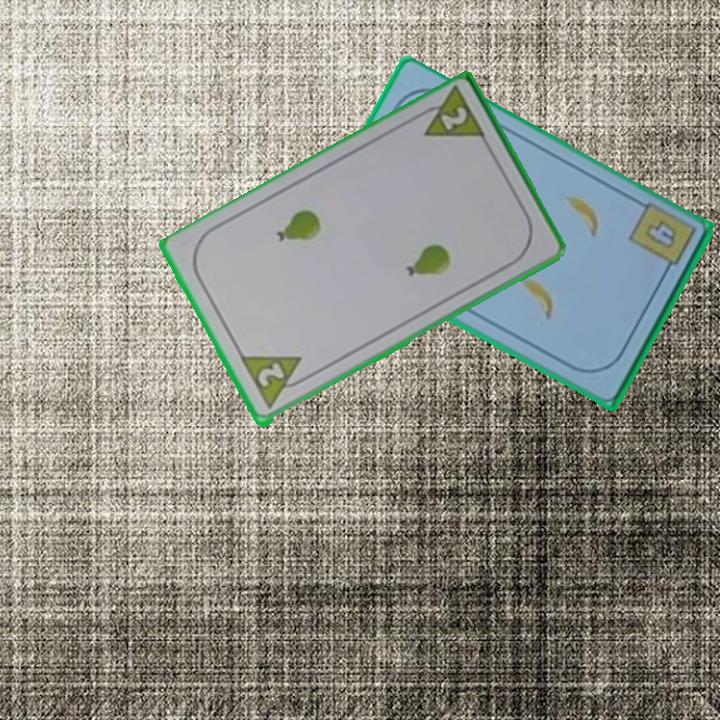2p: (253, 359, 288, 391), (436, 103, 470, 134)
4b: (640, 216, 680, 253)
